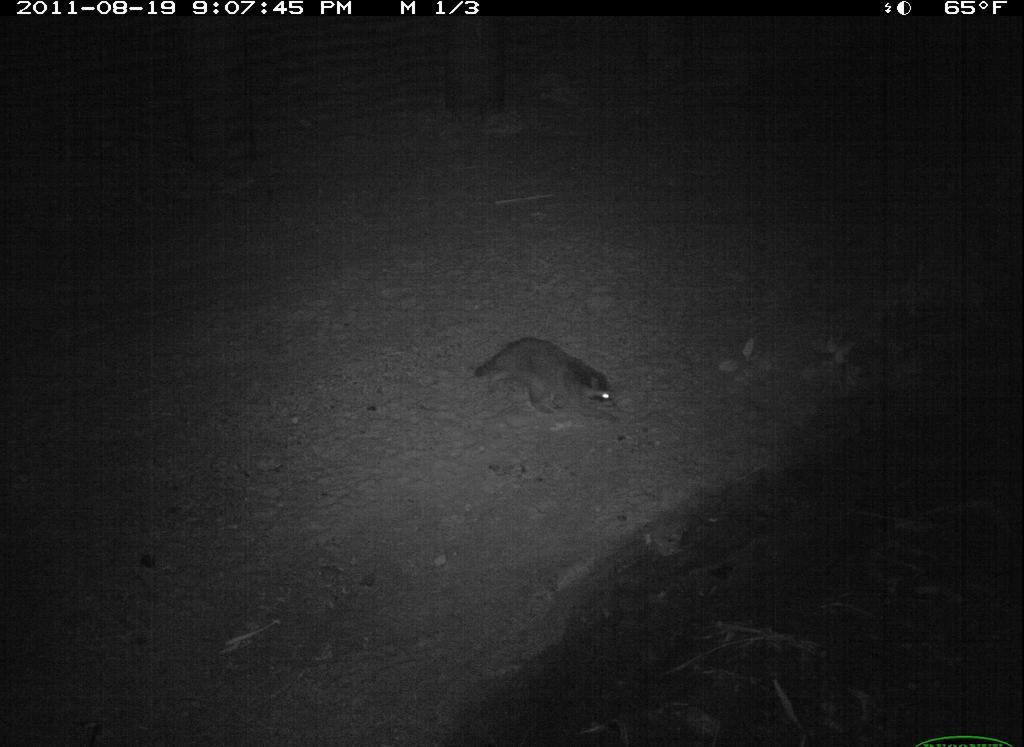raccoon: (470, 328, 635, 438)
